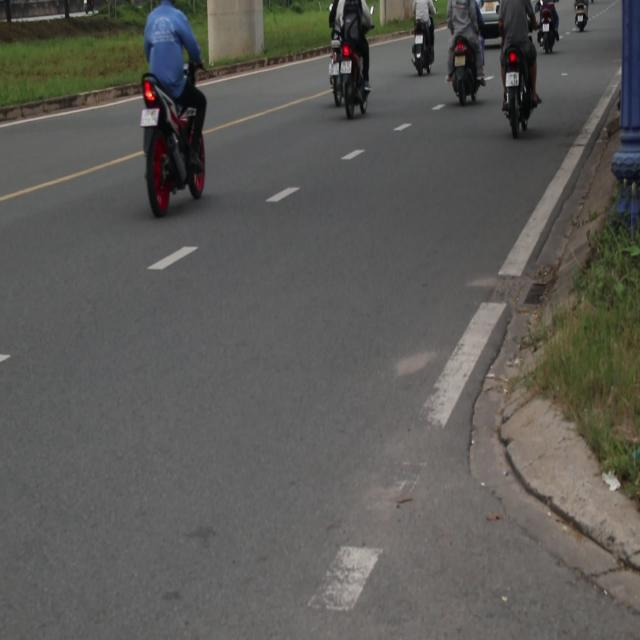car: (477, 1, 500, 40)
motorbike: (131, 71, 220, 215), (334, 48, 378, 132), (499, 43, 529, 138), (449, 38, 475, 116), (328, 43, 356, 111), (538, 1, 563, 56), (417, 25, 431, 85), (572, 0, 589, 31)
